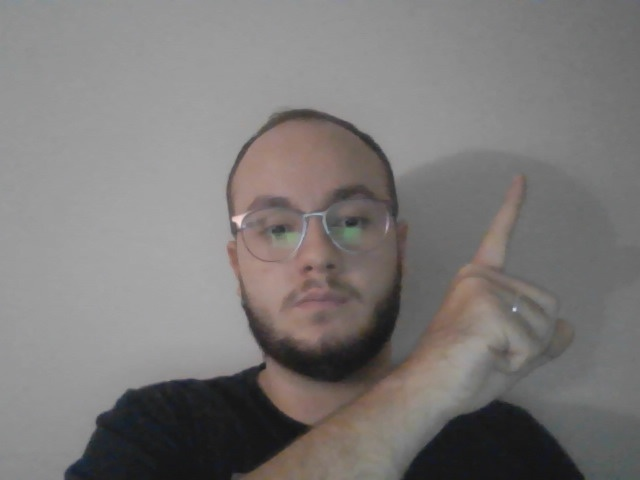One: (412, 173, 575, 433)
